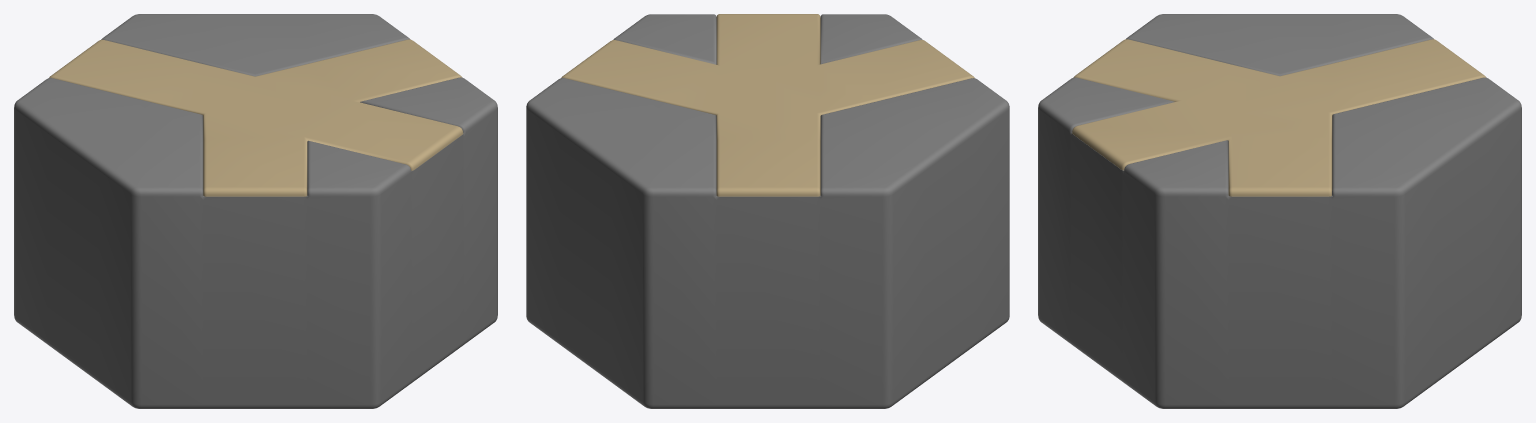
Rendered from Road9.fbx.
The picture shows the model from 3 angles, left to right: view 1: azimuth 30°, elevation 25°; view 2: azimuth 150°, elevation 25°; view 3: azimuth 270°, elevation 25°; orthographic projection.
Parts seen in each view (by area): view 1: Cylinder037; view 2: Cylinder037; view 3: Cylinder037.
Boxes of the visible parts, x1=… form: Cylinder037: x1=14, y1=14, x2=497, y2=408; Cylinder037: x1=526, y1=14, x2=1009, y2=408; Cylinder037: x1=1038, y1=14, x2=1521, y2=408.
Bounding box in the file's own units: 173 × 100 × 199.
